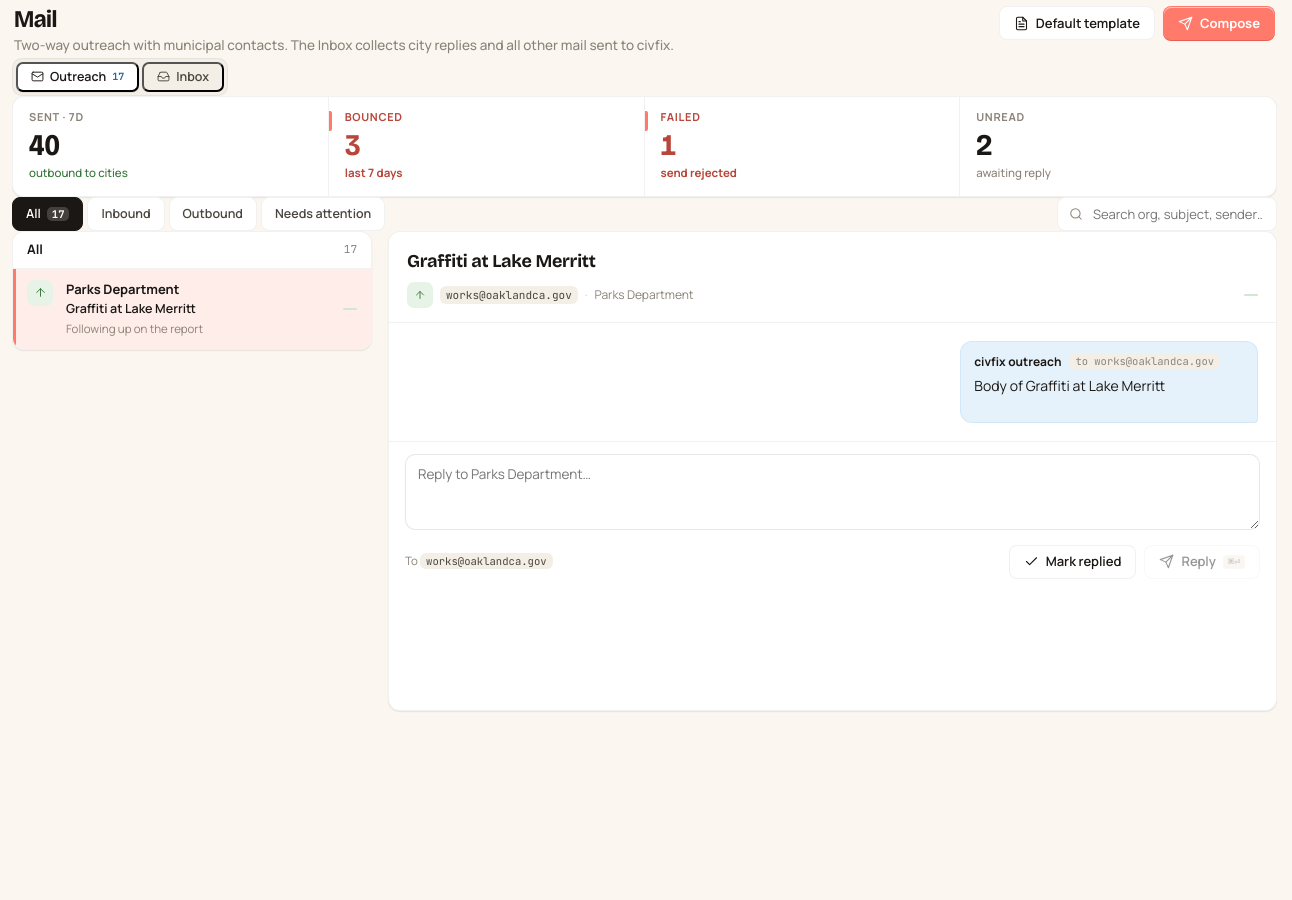
MailPage outreach › sends the chosen filter chip to the api and titles the list with it
This screenshot has width=1292, height=900.
expect the 2nd text "Graffiti at Lake Merritt" is shown: met, box [66,300,196,317]
Click the button "Inbound" at (126, 214), box [88,197,165,231]
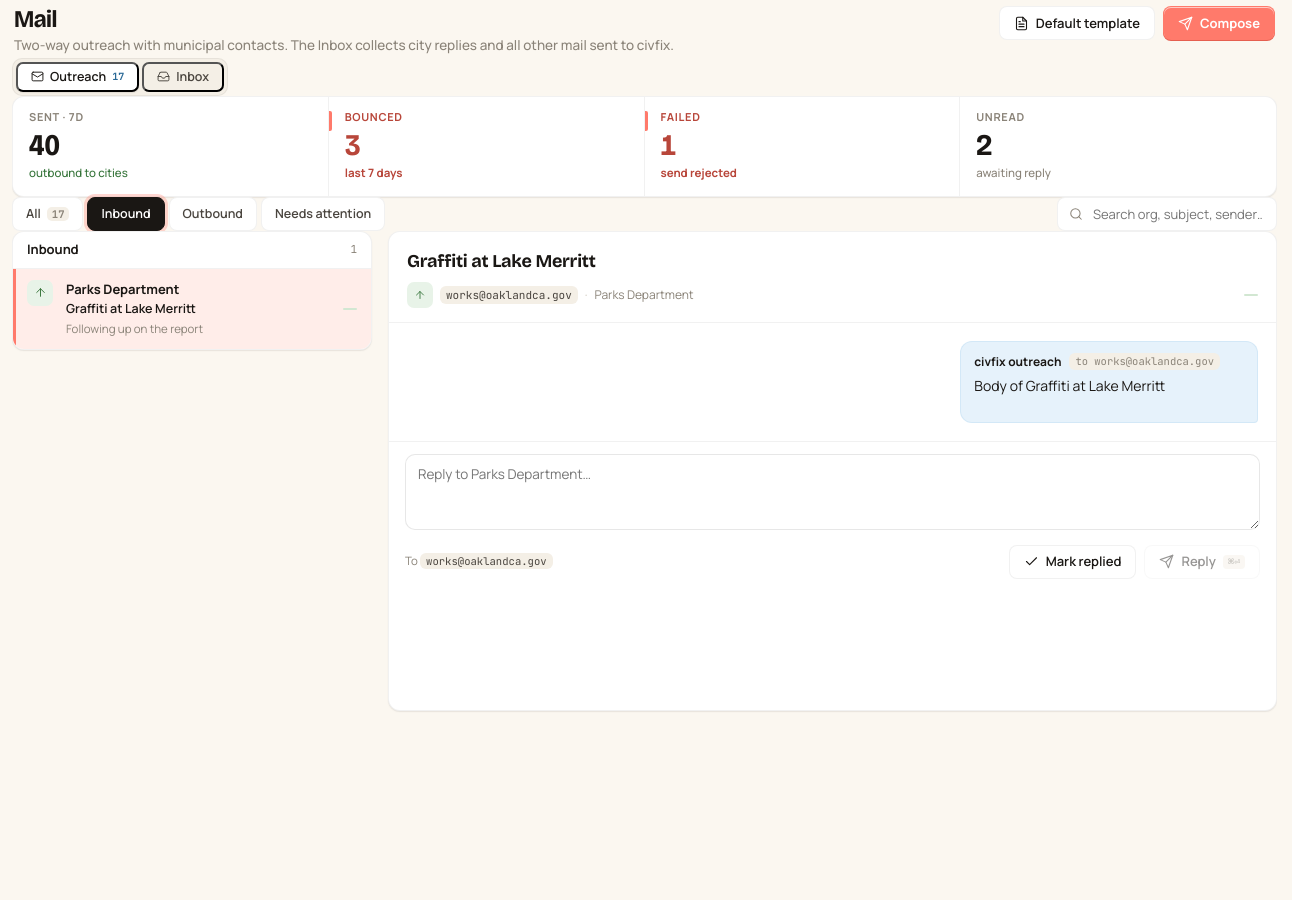
expect the heading "Inbound" is shown: met, box [27,242,78,257]
Click the button "Outbound" at (213, 214), box [169,197,257,231]
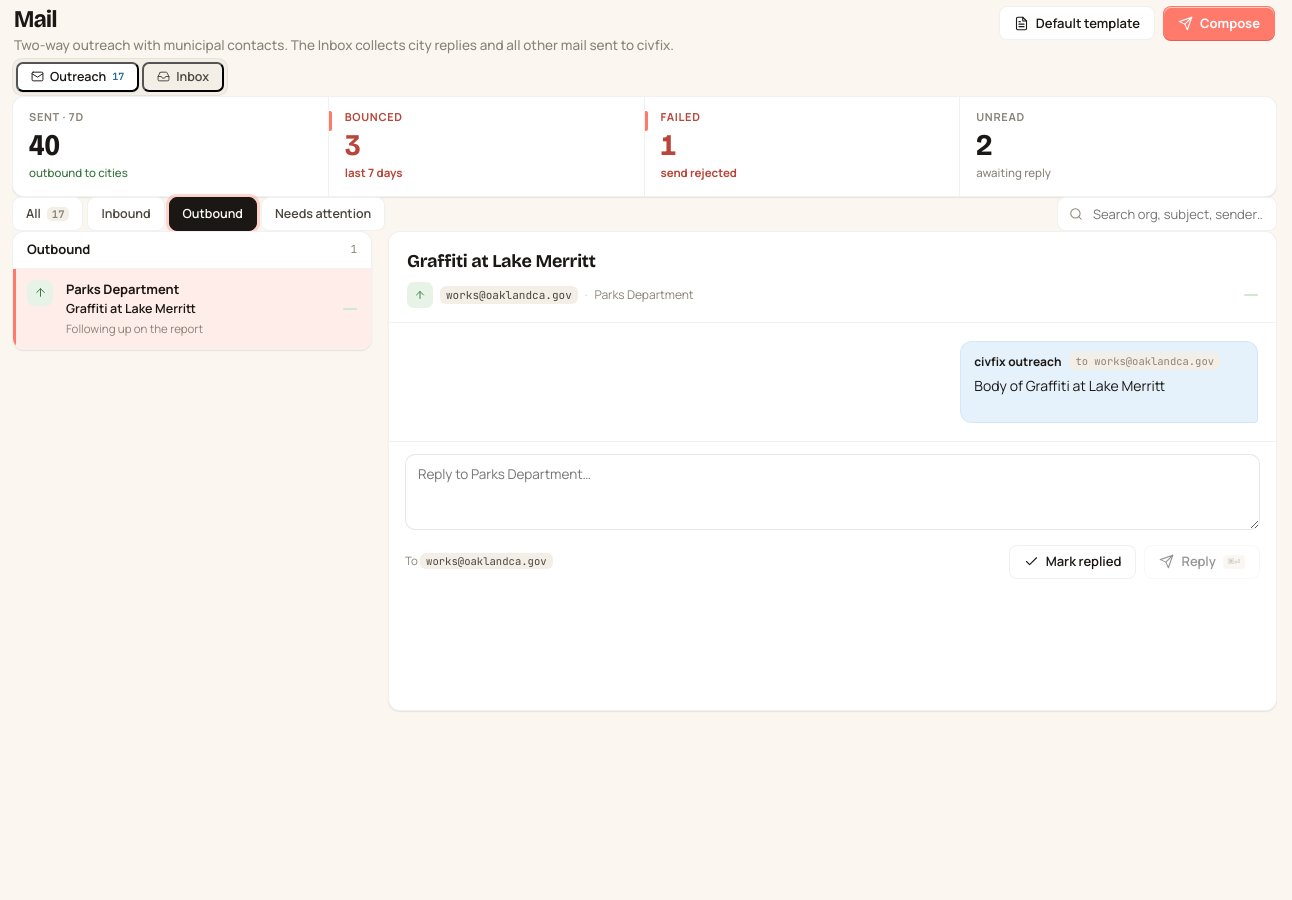
Click the button "Needs attention" at (323, 214), box [261,197,385,231]
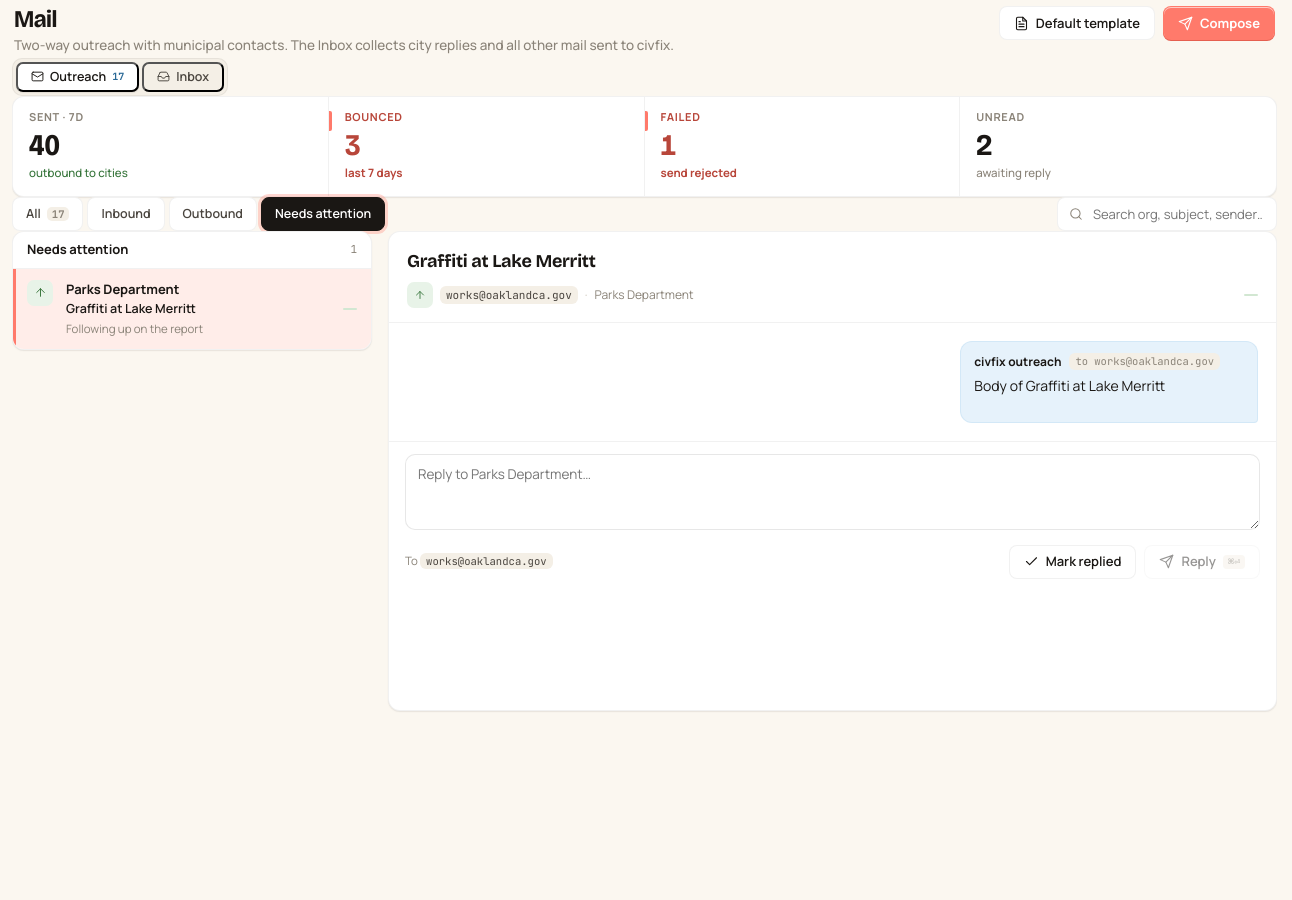
expect the heading "Needs attention" is shown: met, box [27,242,128,257]
